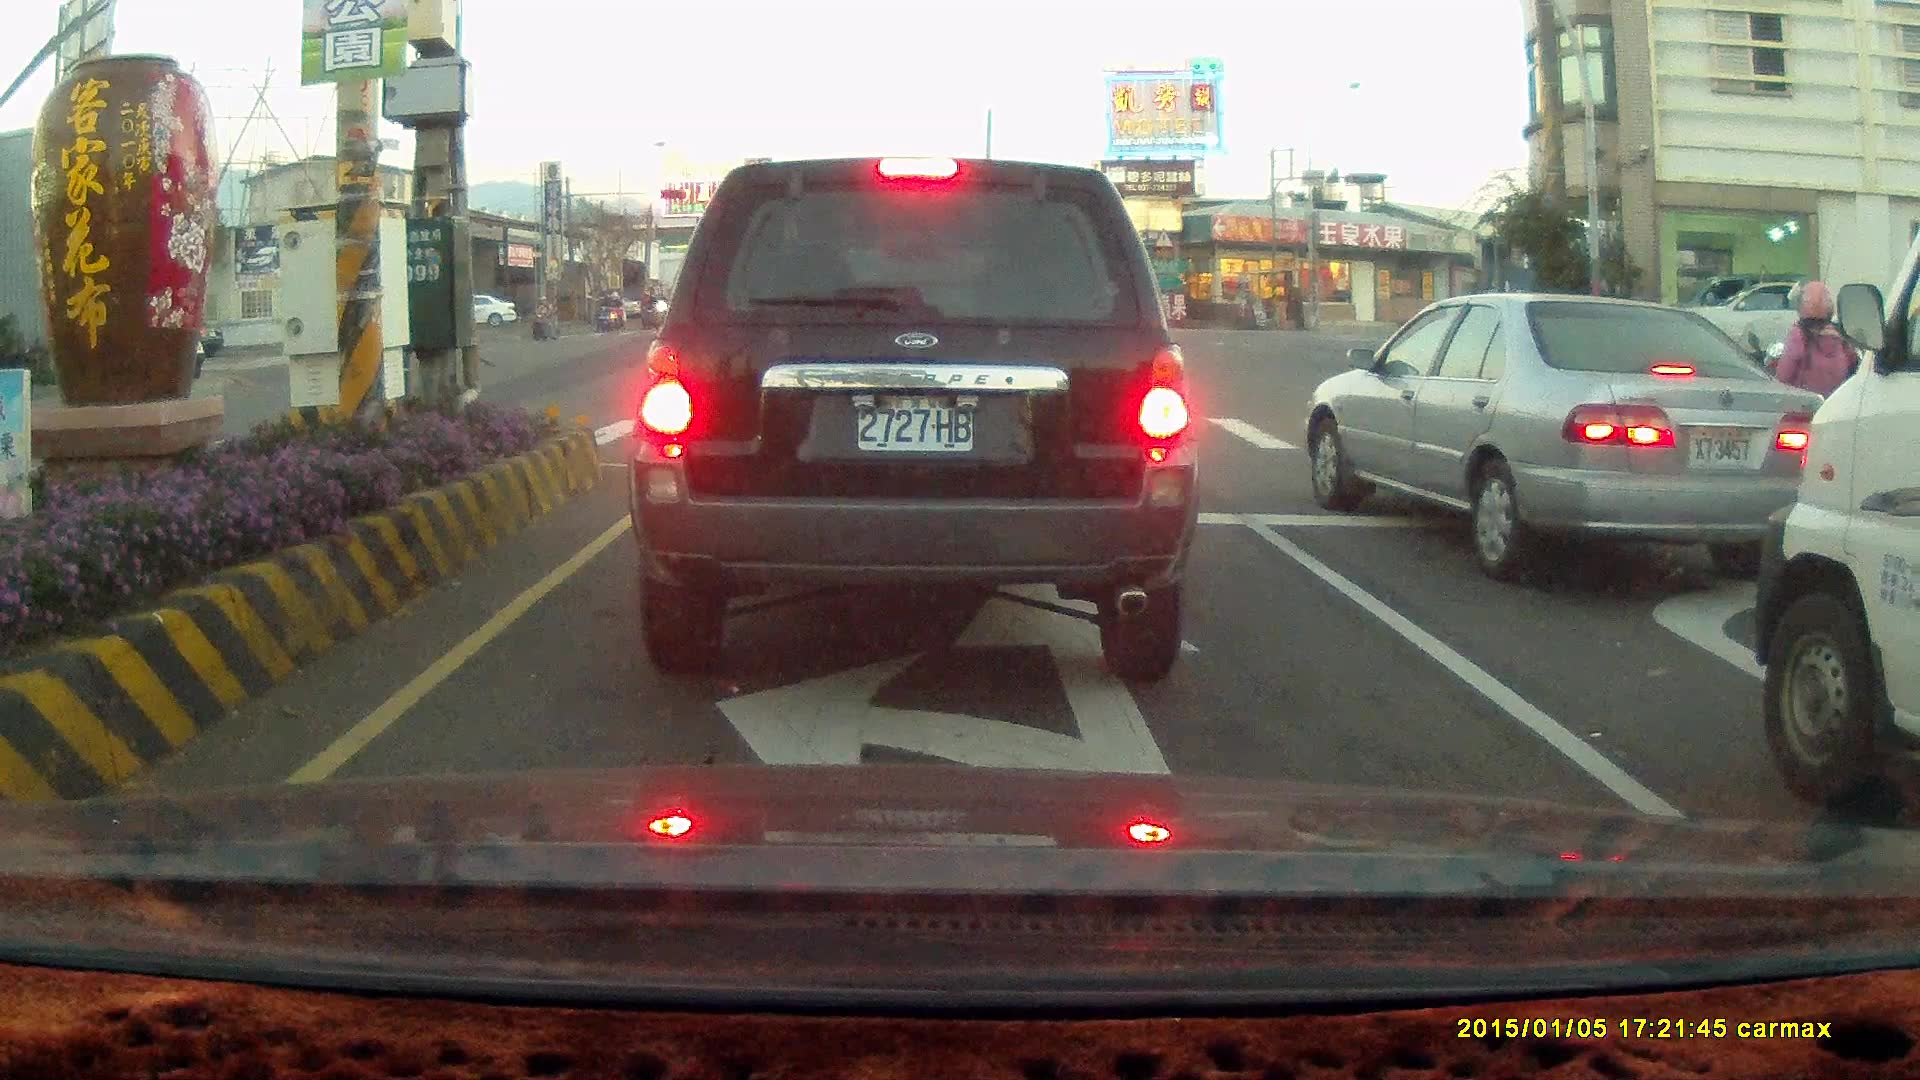rider: (1705, 273, 1920, 525), (527, 290, 562, 337), (593, 290, 614, 331), (643, 289, 664, 326), (606, 293, 627, 330)
vehicle: (625, 155, 1201, 684), (1301, 289, 1830, 582), (1315, 293, 1847, 579), (1755, 226, 1920, 818), (1657, 275, 1853, 369), (1668, 275, 1823, 373)
